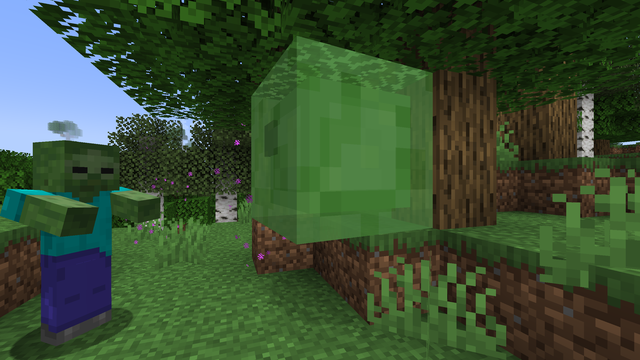slimes: (254, 27, 444, 243)
zombies: (20, 144, 122, 353)
